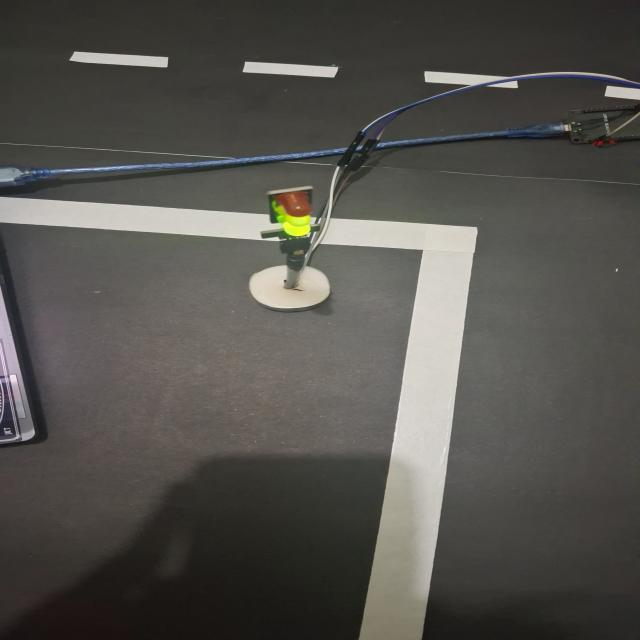Lampu Hijau: (268, 190, 314, 238)
